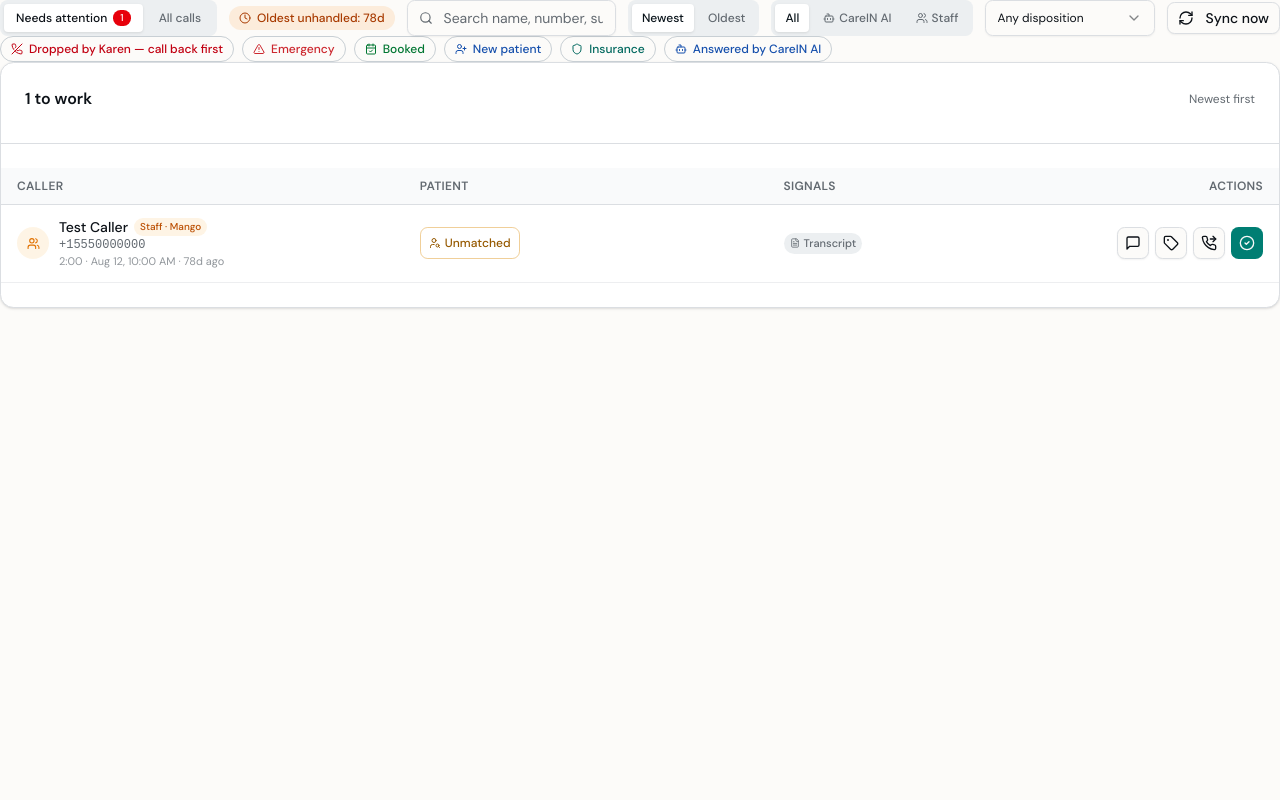
Scenario: setting a disposition from the row › clears the row out of 'Needs attention' the moment it is dispositioned
Expected: the number of elements with test id "worklist-row" is 1, [1,205,1279,282]
Click the button named "Mark what kind of call this was" at coordinates (1171, 243), box [1155,227,1187,259]
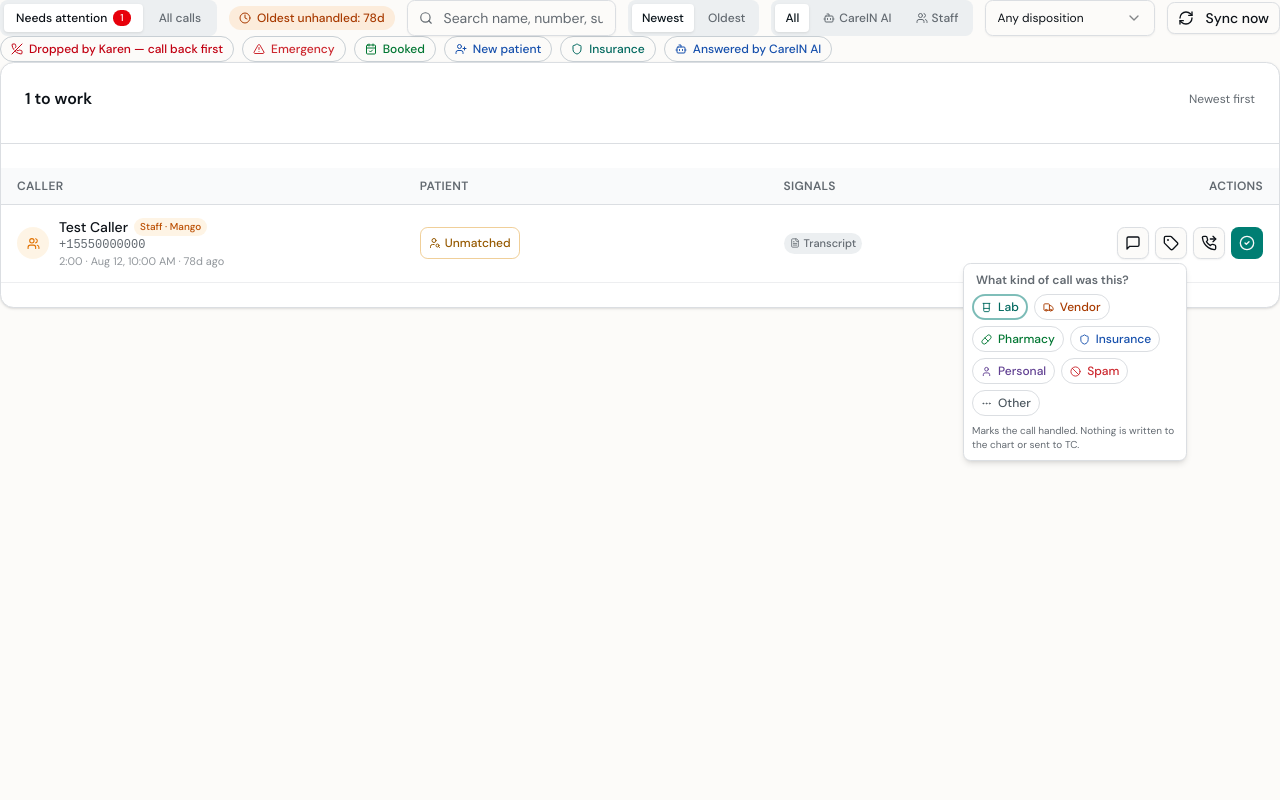
Click the button "Lab" at coordinates (1000, 307), box [972,294,1028,320]
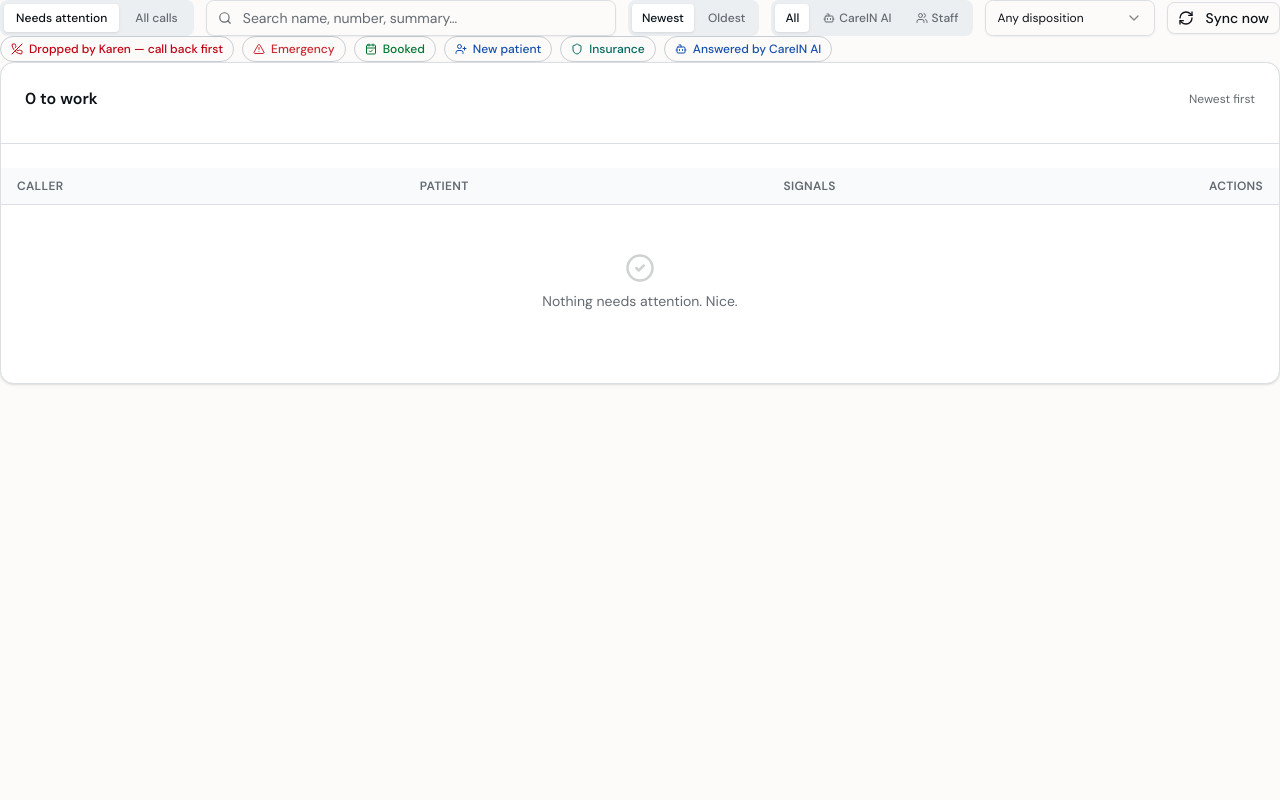
Expected: no elements with test id "worklist-row" are shown
Expected: the text "Nothing needs attention. Nice." is shown, [542,292,738,310]
